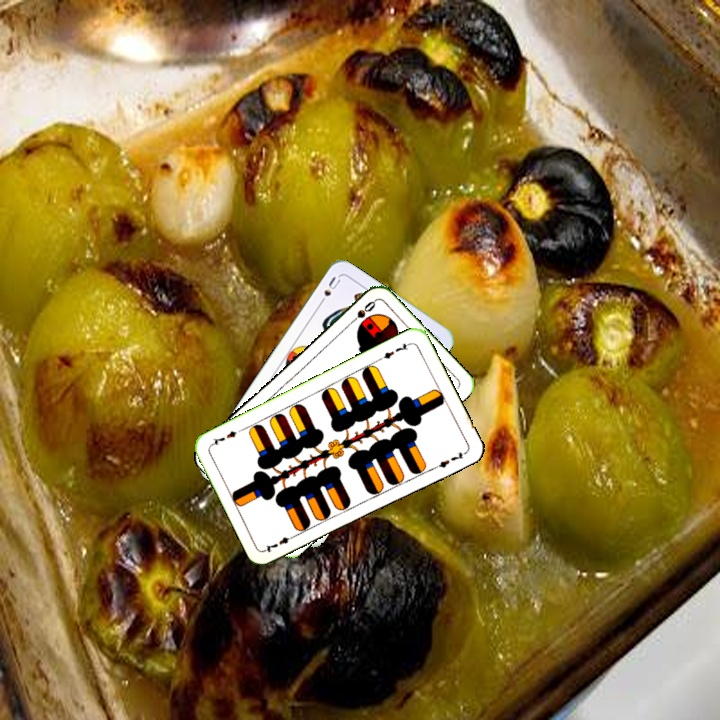E7: (261, 530, 299, 555), (376, 339, 414, 363)
SO: (345, 296, 378, 328)
SU: (315, 272, 343, 309)
